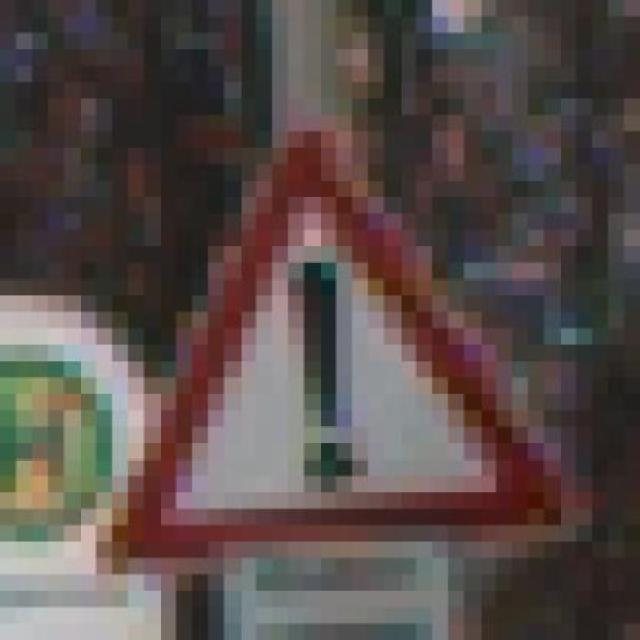Attention Please-: (69, 65, 582, 590)
